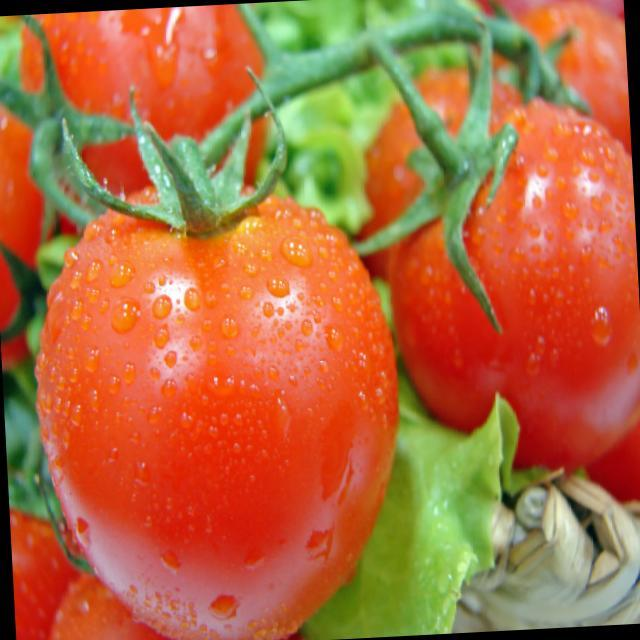TOMATO: (25, 156, 398, 640), (370, 48, 640, 480), (17, 2, 287, 188), (471, 0, 631, 156), (0, 85, 68, 373), (41, 551, 238, 640), (9, 493, 69, 640)
